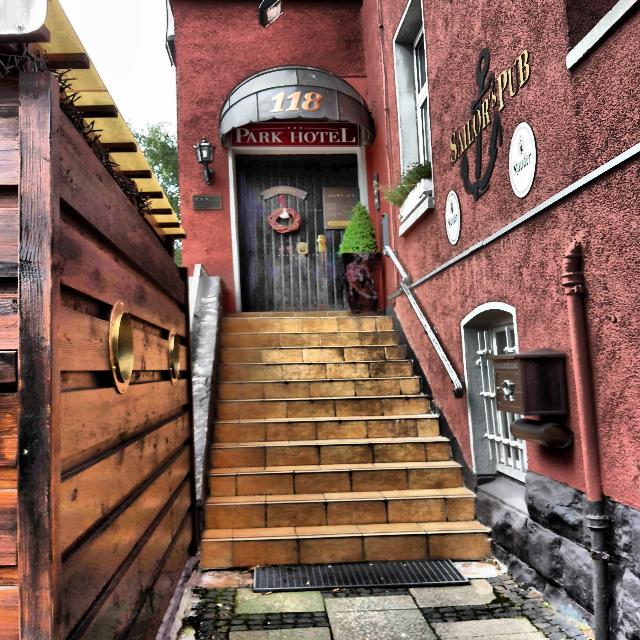escada: (199, 315, 491, 566)
